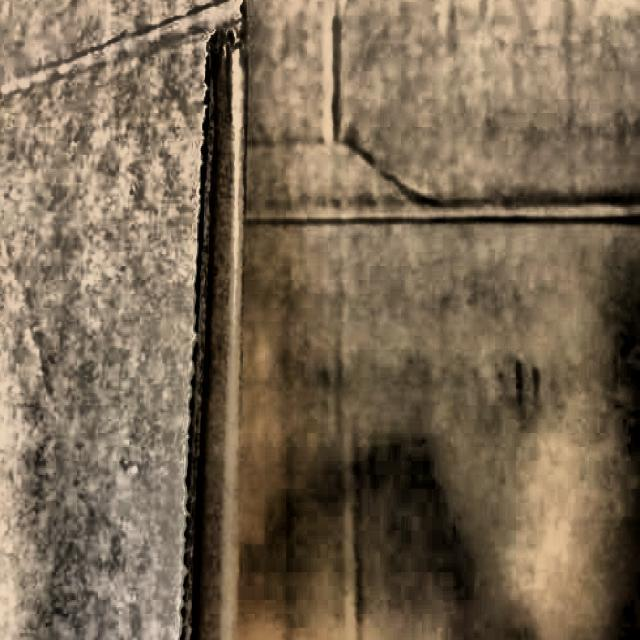cardboard: (187, 0, 640, 640), (0, 0, 247, 640)
